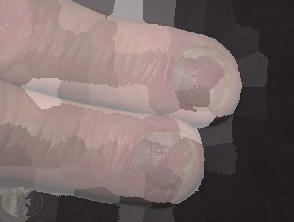Nail_psoriasis: (124, 114, 217, 207), (167, 41, 241, 121)
